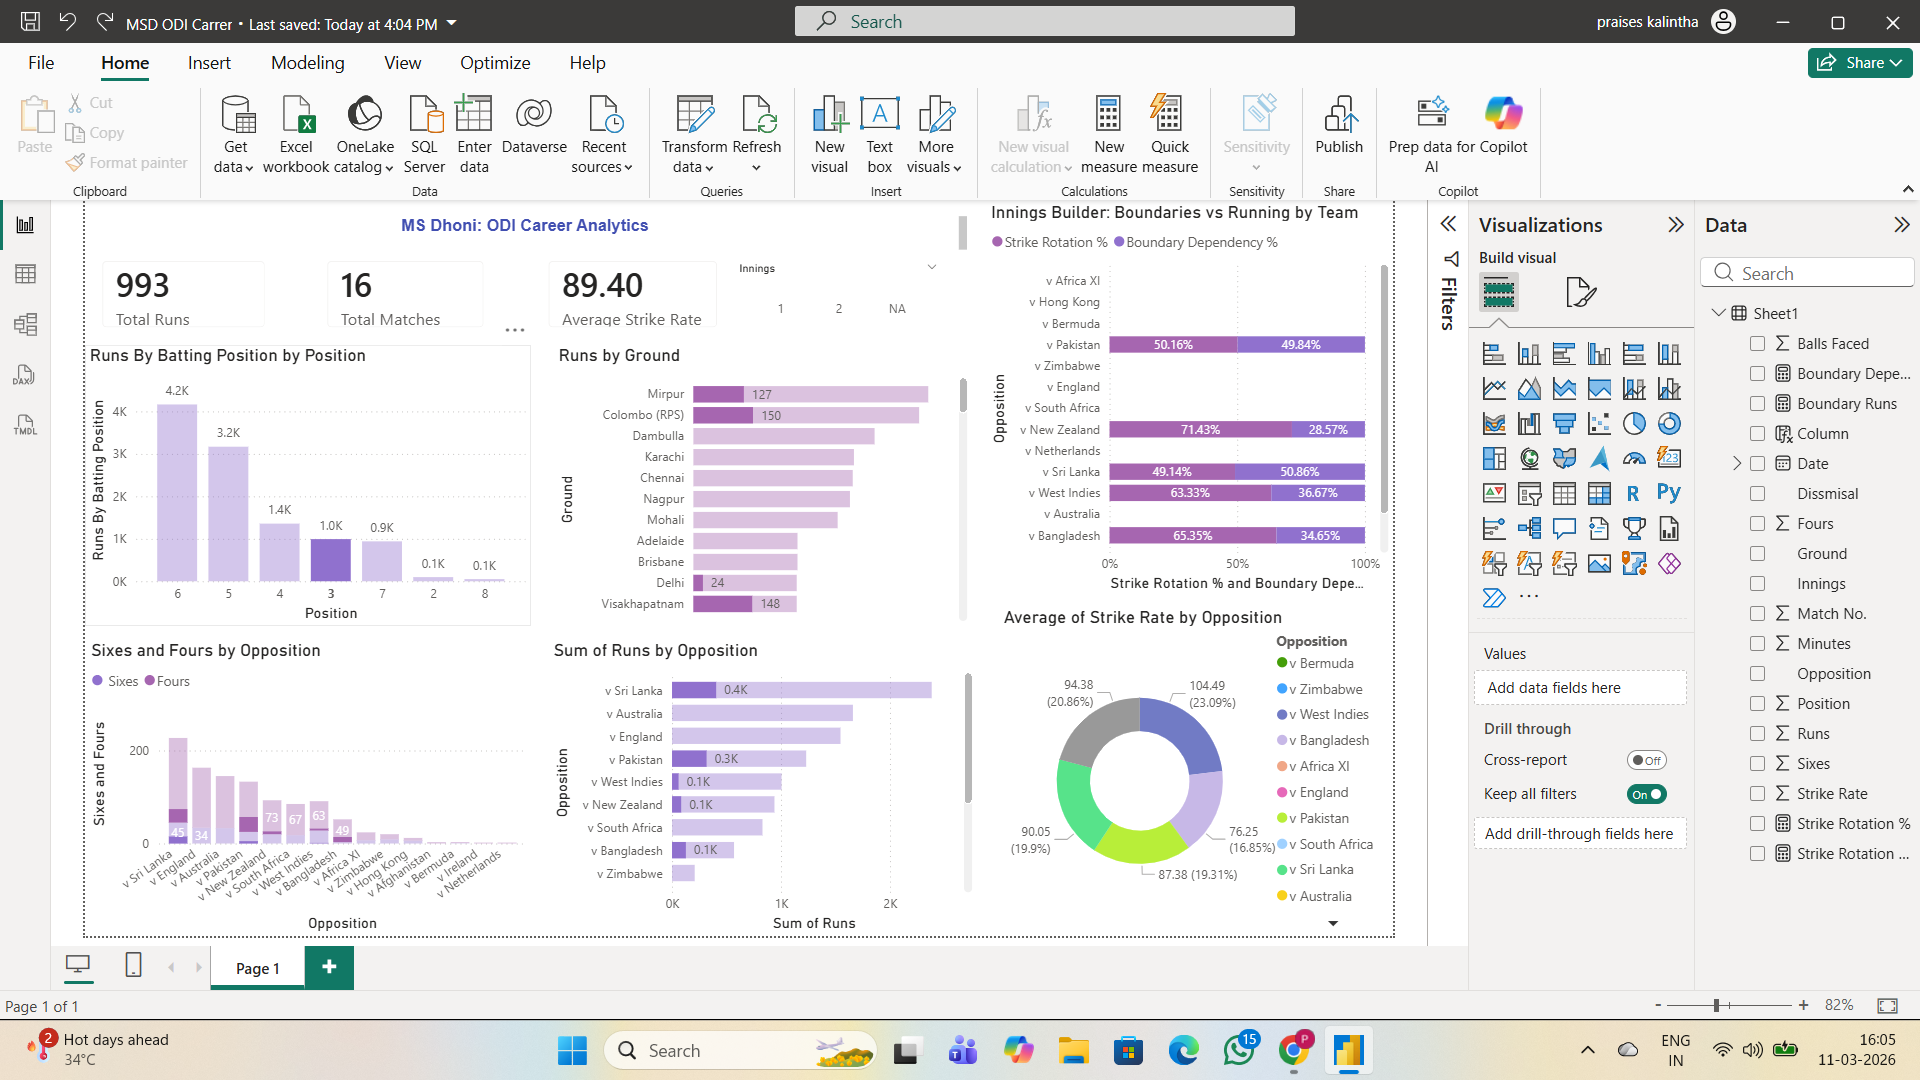

The page's visual inventory and layout, read from the dashboard file:
{"tool":"powerbi","page":{"name":"Page 1","canvas":[1280,720],"ordinal":0},"visuals":[{"type":"columnChart","fields":{"Category":["Sheet1.Position"],"Y":["Sum(Sheet1.Runs)"]},"box":[0,141.8,436.6,275.1],"z":0},{"type":"columnChart","fields":{"Category":["Sheet1.Opposition"],"Y":["Sum(Sheet1.Sixes)","Sum(Sheet1.Fours)"]},"box":[1.2,430.4,435.3,289.8],"z":1000},{"type":"clusteredBarChart","fields":{"Y":["Sum(Sheet1.Runs)"],"Category":["Sheet1.Opposition"]},"box":[453.7,430.4,419.4,289.8],"z":2000},{"type":"donutChart","fields":{"Category":["Sheet1.Opposition"],"Y":["Avg(Sheet1.Strike Rate)"]},"box":[893.9,397.4,386.4,322.8],"z":3000},{"type":"cardVisual","fields":{"Data":["Sum(Sheet1.Runs)"]},"box":[0,42.8,193.2,99],"z":4000},{"type":"cardVisual","fields":{"Data":["CountNonNull(Sheet1.Match No.)"]},"box":[220.1,42.8,187.1,99],"z":5000},{"type":"cardVisual","fields":{"Data":["Avg(Sheet1.Strike Rate)"]},"box":[436.6,42.8,199.3,99],"z":6000},{"type":"barChart","fields":{"Category":["Sheet1.Ground"],"Y":["Sum(Sheet1.Runs)"]},"box":[458.6,141.8,409.6,275.1],"z":7000},{"type":"slicer","fields":{"Values":["Sheet1.Innings"]},"box":[627.3,55,218.9,86.8],"z":8000},{"type":"hundredPercentStackedBarChart","title":"Innings Builder: Boundaries vs Running by Team","fields":{"Category":["Sheet1.Opposition"],"Y":["Sheet1.Strike Rotation %","Sheet1.Boundary Dependency %"]},"box":[881.7,1.2,398.6,386.4],"z":9000},{"type":"textbox","box":[1.2,11,867,44],"z":10000}]}

Visuals, with their boxes on the page's 1280x720 design canvas (x1, y1, x2, y2). These are canvas units, not pixel positions in the 1920x1080 screenshot, which may show the page scaled, cropped or inside an application window:
columnChart - Sheet1.Position x Sum(Sheet1.Runs): BBox(0, 142, 437, 417)
columnChart - Sheet1.Opposition x Sum(Sheet1.Sixes): BBox(1, 430, 436, 720)
clusteredBarChart - Sum(Sheet1.Runs) x Sheet1.Opposition: BBox(454, 430, 873, 720)
donutChart - Sheet1.Opposition x Avg(Sheet1.Strike Rate): BBox(894, 397, 1280, 720)
cardVisual - Sum(Sheet1.Runs): BBox(0, 43, 193, 142)
cardVisual - CountNonNull(Sheet1.Match No.): BBox(220, 43, 407, 142)
cardVisual - Avg(Sheet1.Strike Rate): BBox(437, 43, 636, 142)
barChart - Sheet1.Ground x Sum(Sheet1.Runs): BBox(459, 142, 868, 417)
slicer - Sheet1.Innings: BBox(627, 55, 846, 142)
"Innings Builder: Boundaries vs Running by Team" hundredPercentStackedBarChart: BBox(882, 1, 1280, 388)
textbox: BBox(1, 11, 868, 55)
